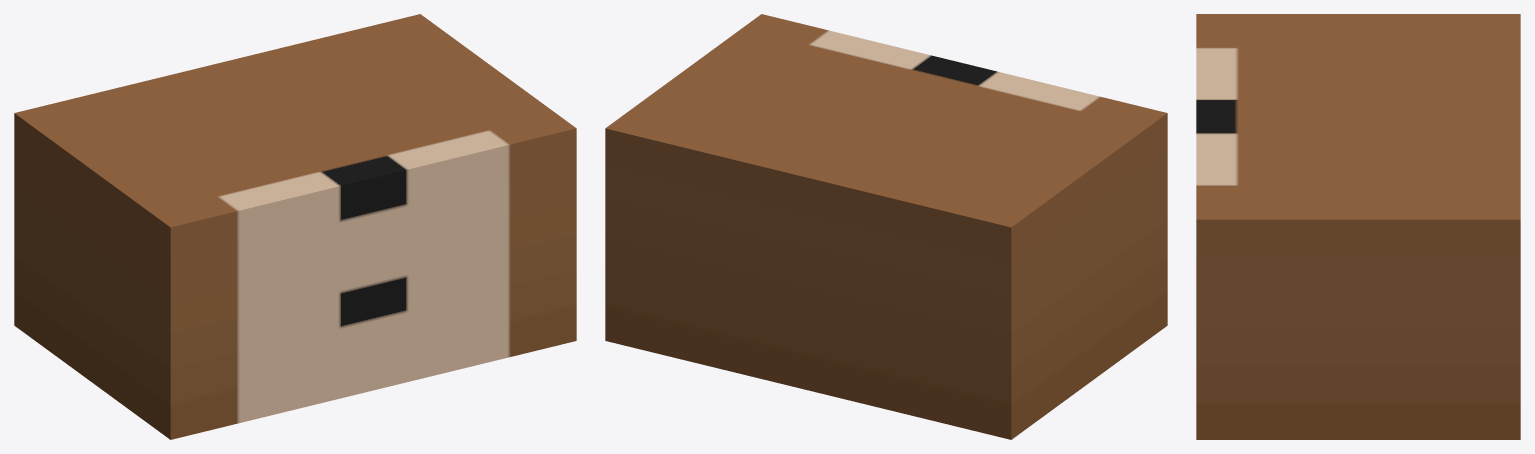
Rendered from Spine063.fbx.
The picture shows the model from 3 angles, left to right: view 1: azimuth 30°, elevation 25°; view 2: azimuth 150°, elevation 25°; view 3: azimuth 270°, elevation 25°; orthographic projection. The views are drawn at different scales.
Visible parts, largest first — view 1: Spine063; view 2: Spine063; view 3: Spine063.
Part boxes in pixels (box(x1,y1,x2,y2)): Spine063: box(14, 14, 576, 439); Spine063: box(605, 14, 1167, 439); Spine063: box(1196, 14, 1520, 439).
Bounding box in the file's own units: 12 × 6 × 8.
